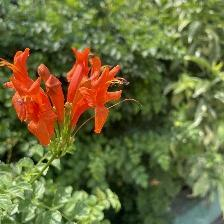honeysuckle: (69, 47, 128, 140)
